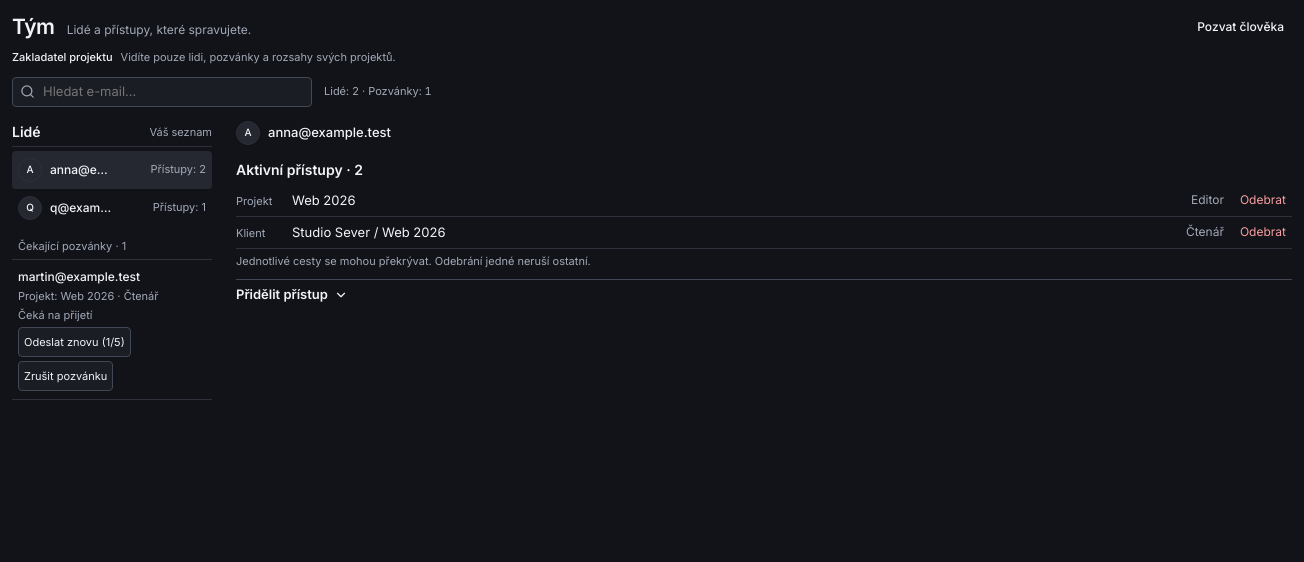
Test: approved compact team workspace › grants only to the captured P identity when focus refresh is still in flight at submit
Click the button "Přidělit přístup" at (282, 294), box [236,279,1292,311]
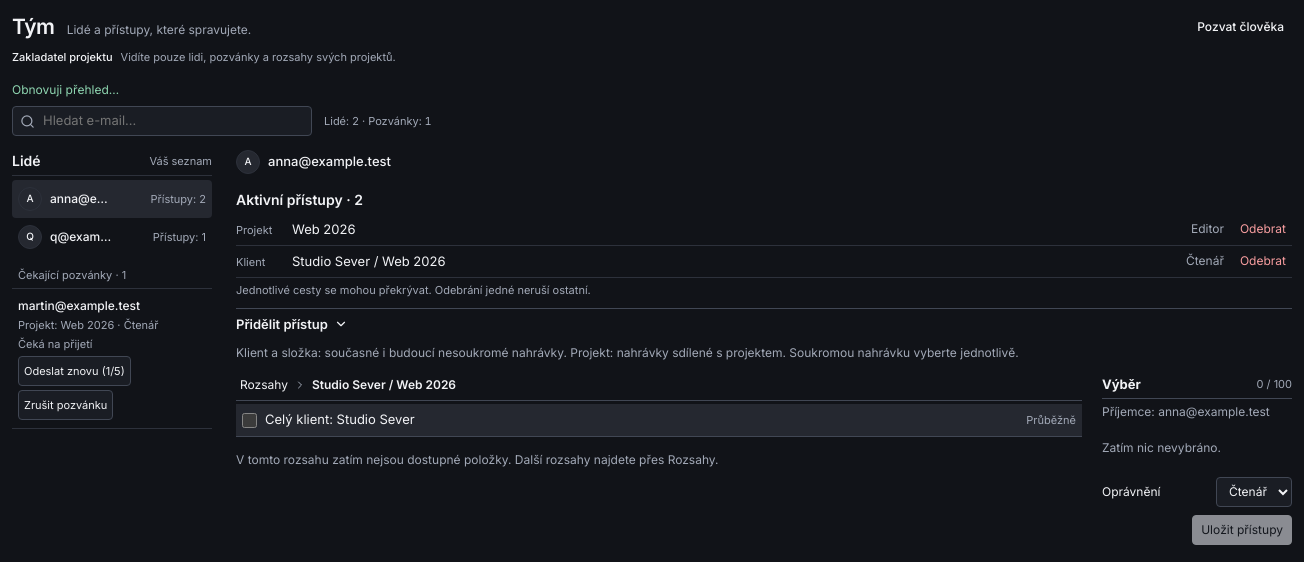
Expected: the element named "Přidělit přístup" does not show "q@example.test"
Now the form named "Přidělit přístup" shows "anna@example.test", box [1158,404,1270,419]
Click the checkbox labelled "Celý klient: Studio Sever" at (250, 420), box [242,413,257,428]
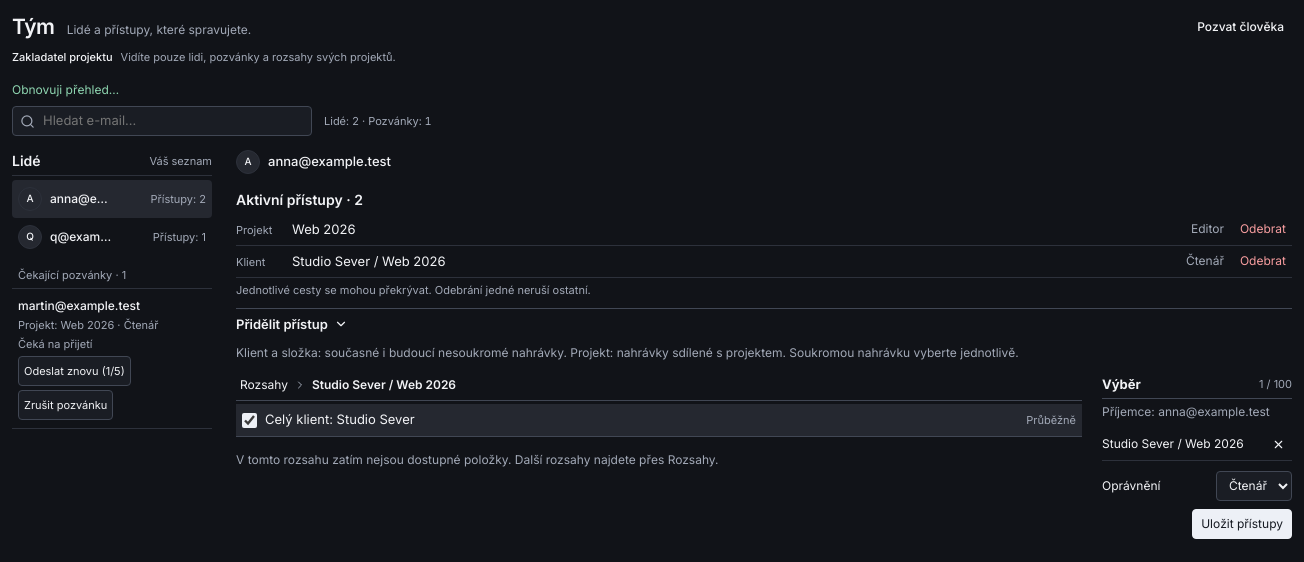
Submit the form named "Přidělit přístup", box [236,344,1292,539]
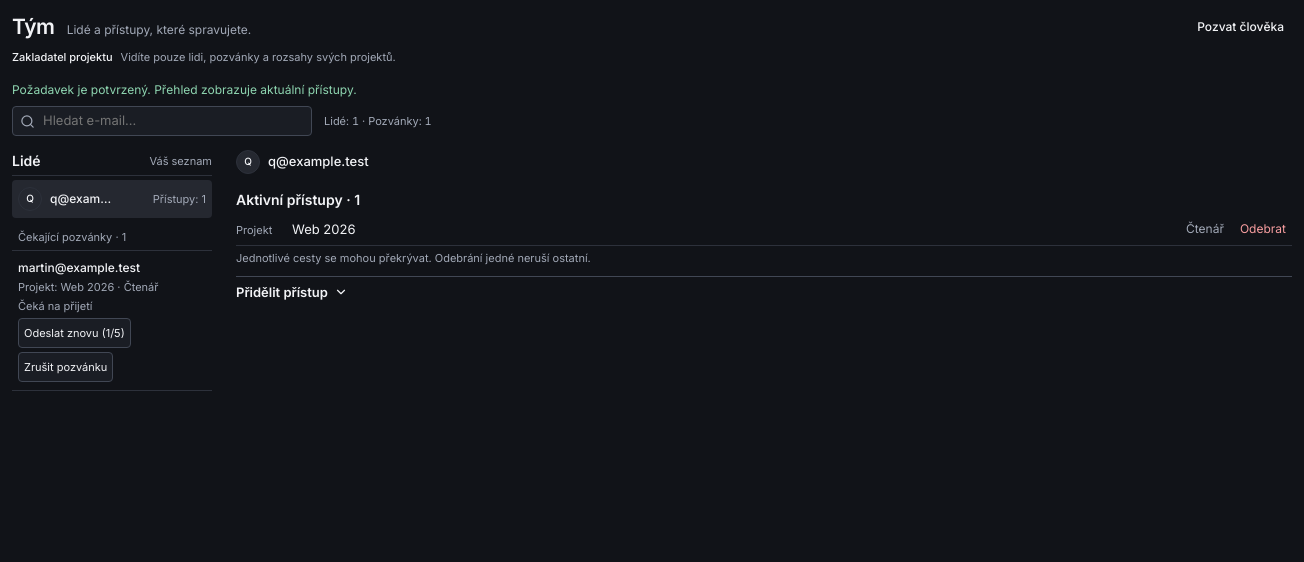
Now the element named "Detail osoby" shows "q@example.test", box [268,153,369,169]
